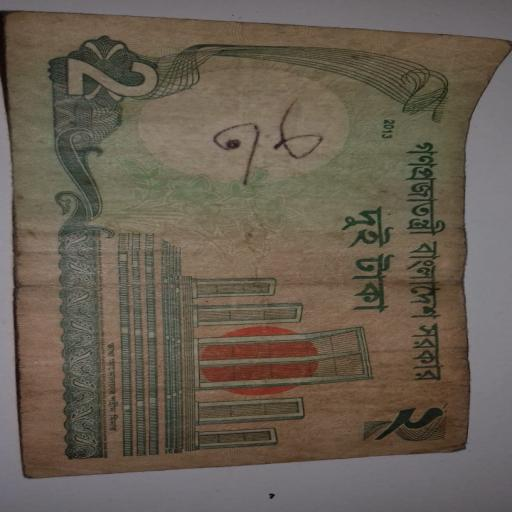2taka: (2, 12, 509, 477)
